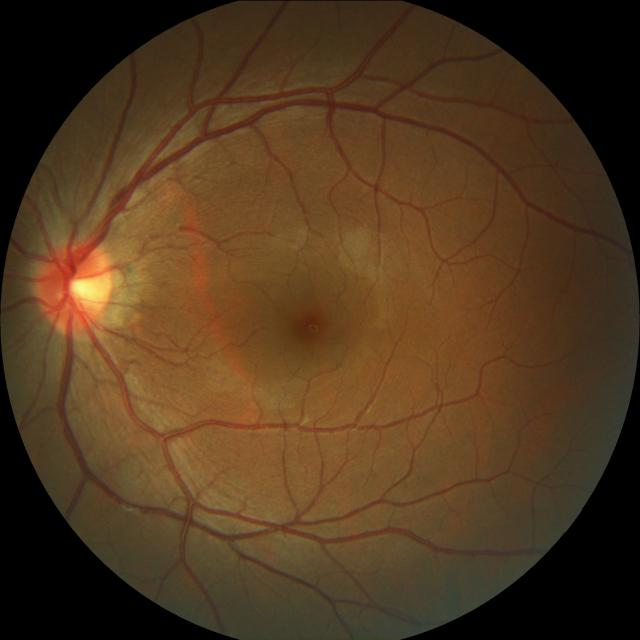OC: (57, 267, 99, 305)
OD: (33, 238, 116, 331)
